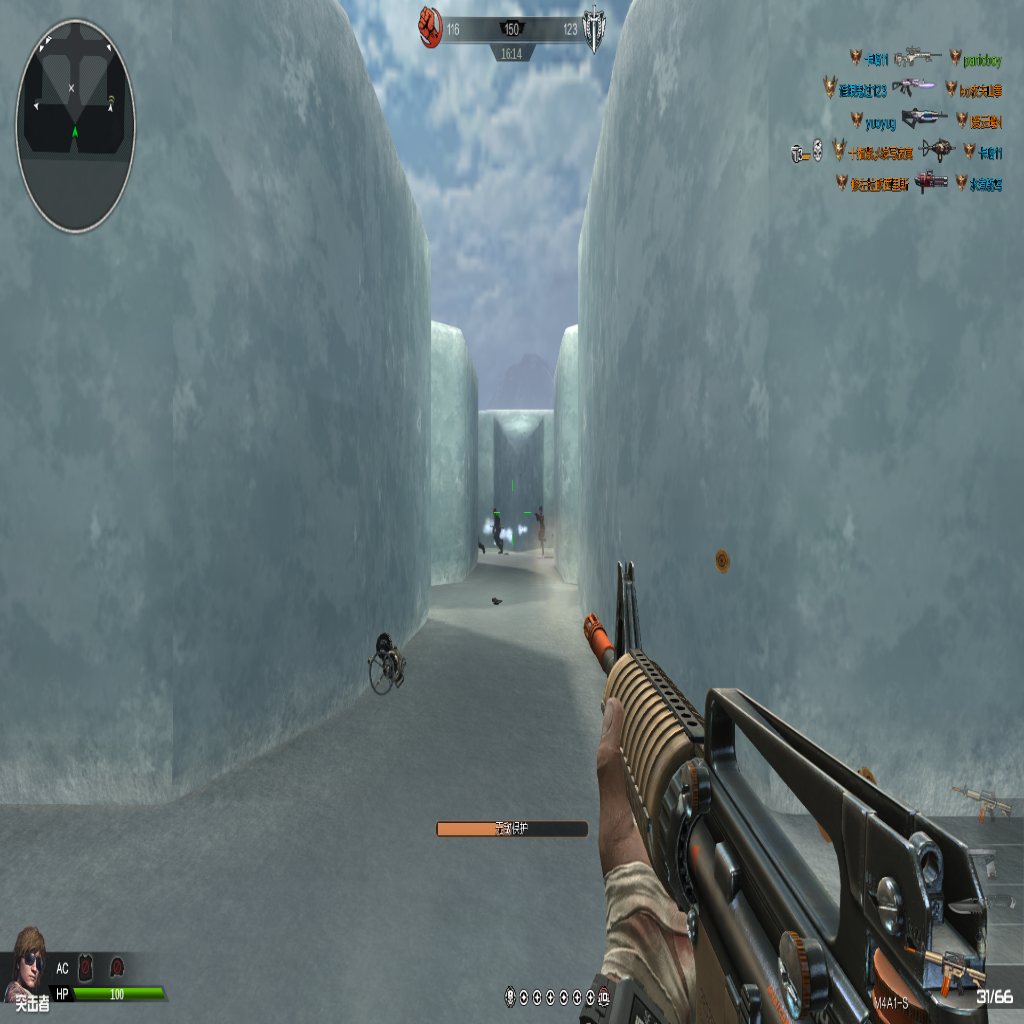ct: (534, 505, 548, 556), (492, 505, 503, 553)
